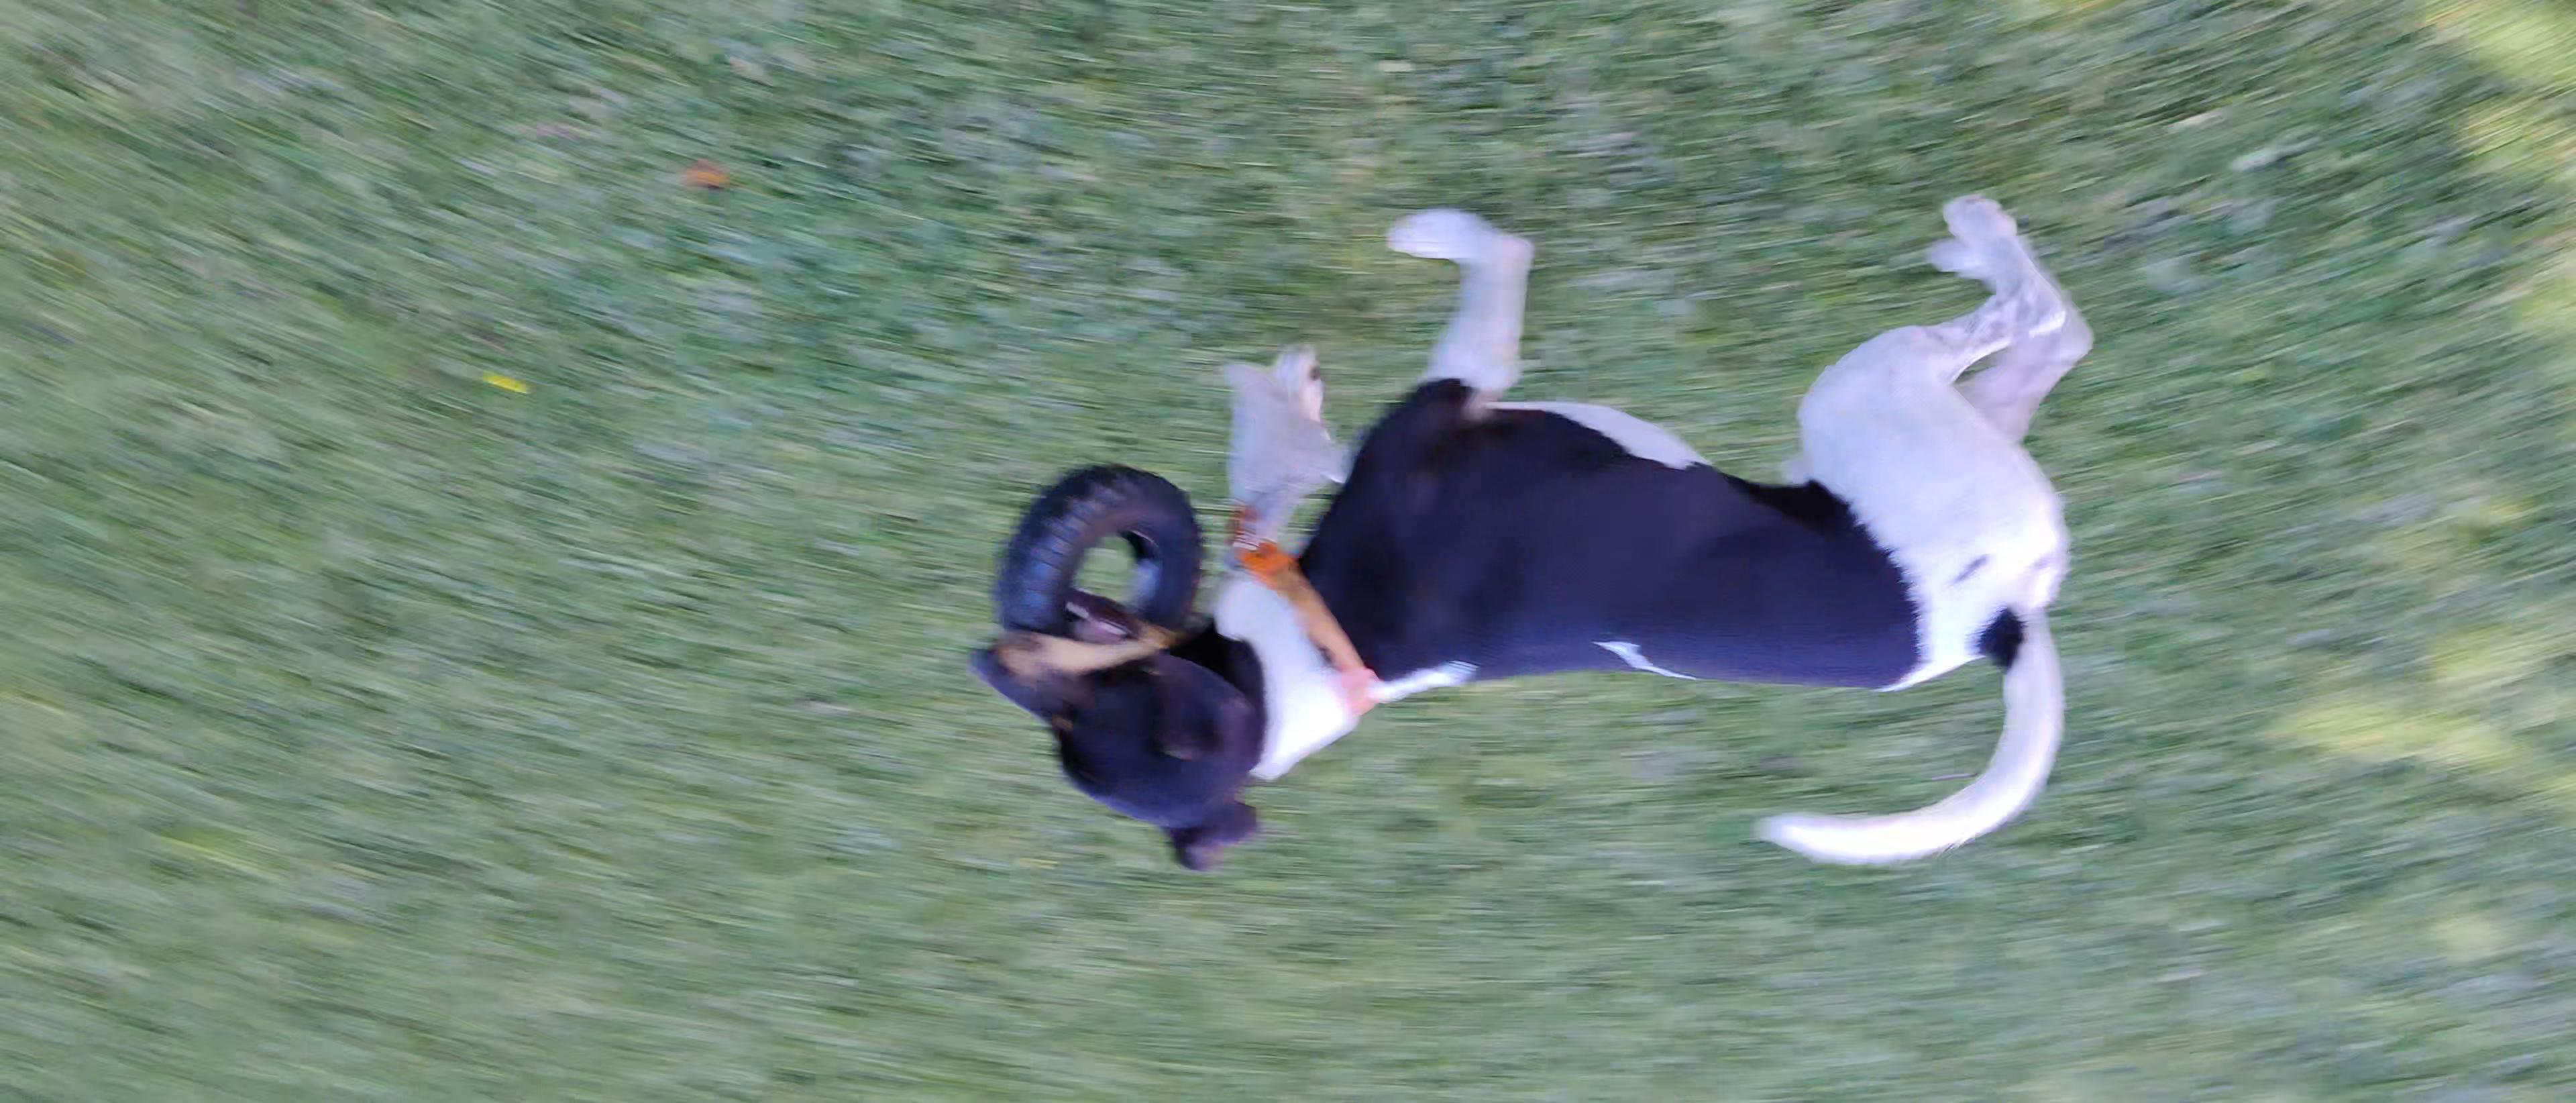Dog: (930, 182, 2134, 898)
